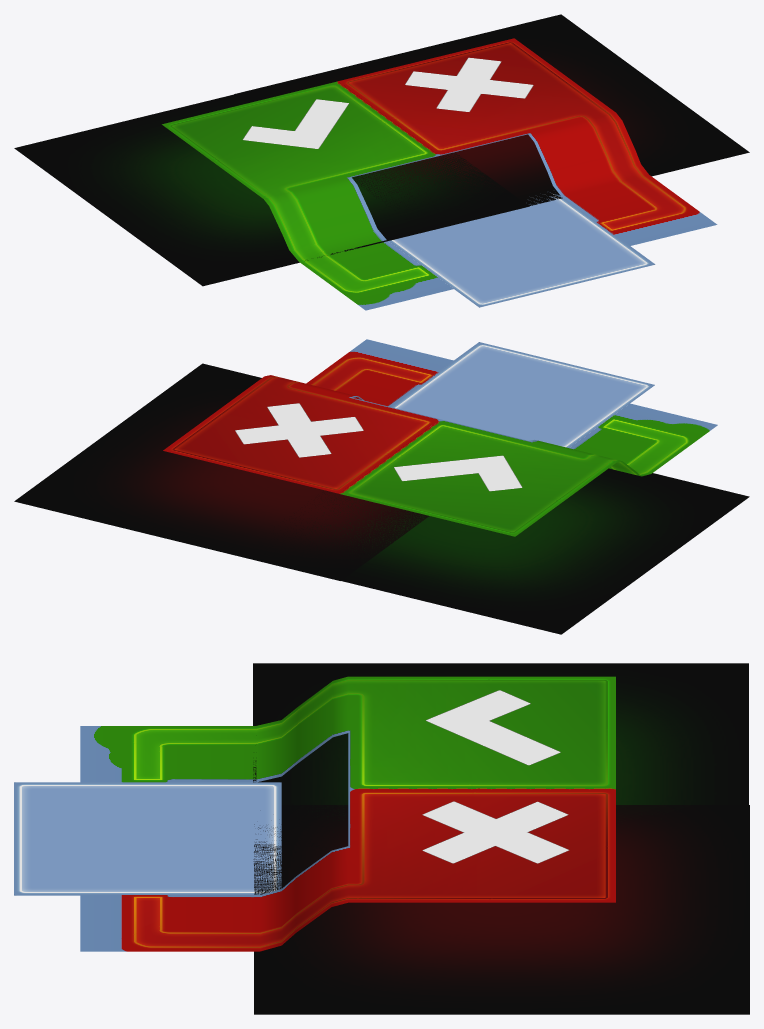
Rendered from MapSelector.fbx.
3 renders of one model, top to bottom at view 1: azimuth 30°, elevation 25°; view 2: azimuth 150°, elevation 25°; view 3: azimuth 270°, elevation 25°, orthographic. The views are drawn at different scales.
Parts seen in each view (by area): view 1: AcceptGlow, AcceptButton, CancelButton, CancelGlow, Selector, CancelIcon, AcceptIcon; view 2: CancelGlow, AcceptGlow, AcceptButton, CancelButton, Selector, CancelIcon, AcceptIcon; view 3: CancelGlow, AcceptButton, CancelButton, AcceptGlow, Selector, CancelIcon, AcceptIcon.
Part boxes in pixels (bbox=[...]): AcceptGlow: bbox=[14, 73, 529, 286]; AcceptButton: bbox=[162, 81, 453, 310]; CancelButton: bbox=[338, 38, 717, 245]; CancelGlow: bbox=[234, 14, 749, 231]; Selector: bbox=[388, 192, 655, 307]; CancelIcon: bbox=[405, 57, 533, 111]; AcceptIcon: bbox=[242, 99, 348, 148]; CancelGlow: bbox=[14, 363, 429, 580]; AcceptGlow: bbox=[258, 468, 749, 634]; AcceptButton: bbox=[339, 403, 717, 536]; CancelButton: bbox=[163, 339, 453, 493]; Selector: bbox=[391, 342, 654, 447]; CancelIcon: bbox=[235, 403, 363, 457]; AcceptIcon: bbox=[394, 455, 522, 491]; CancelGlow: bbox=[254, 805, 749, 1014]; AcceptButton: bbox=[80, 676, 615, 789]; CancelButton: bbox=[80, 789, 615, 951]; AcceptGlow: bbox=[253, 663, 748, 872]; Selector: bbox=[14, 782, 281, 895]; CancelIcon: bbox=[422, 801, 569, 863]; AcceptIcon: bbox=[426, 690, 560, 765].
Size of the model in its own units: 310 by 25.09 by 275.
